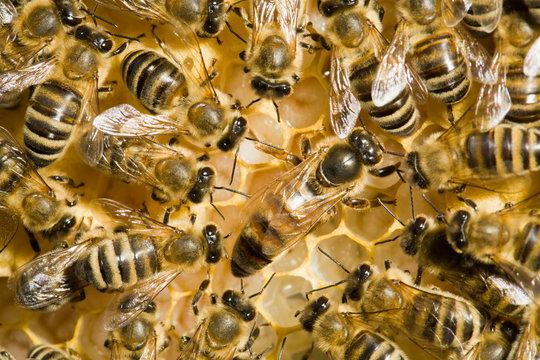Queen-Bee: (231, 128, 394, 277)
worker-bee: (319, 248, 486, 359), (122, 36, 247, 151), (75, 224, 224, 318), (317, 0, 419, 136), (24, 24, 120, 167), (83, 105, 221, 203), (390, 0, 487, 104), (446, 193, 539, 298), (0, 127, 79, 244), (297, 296, 410, 359)
